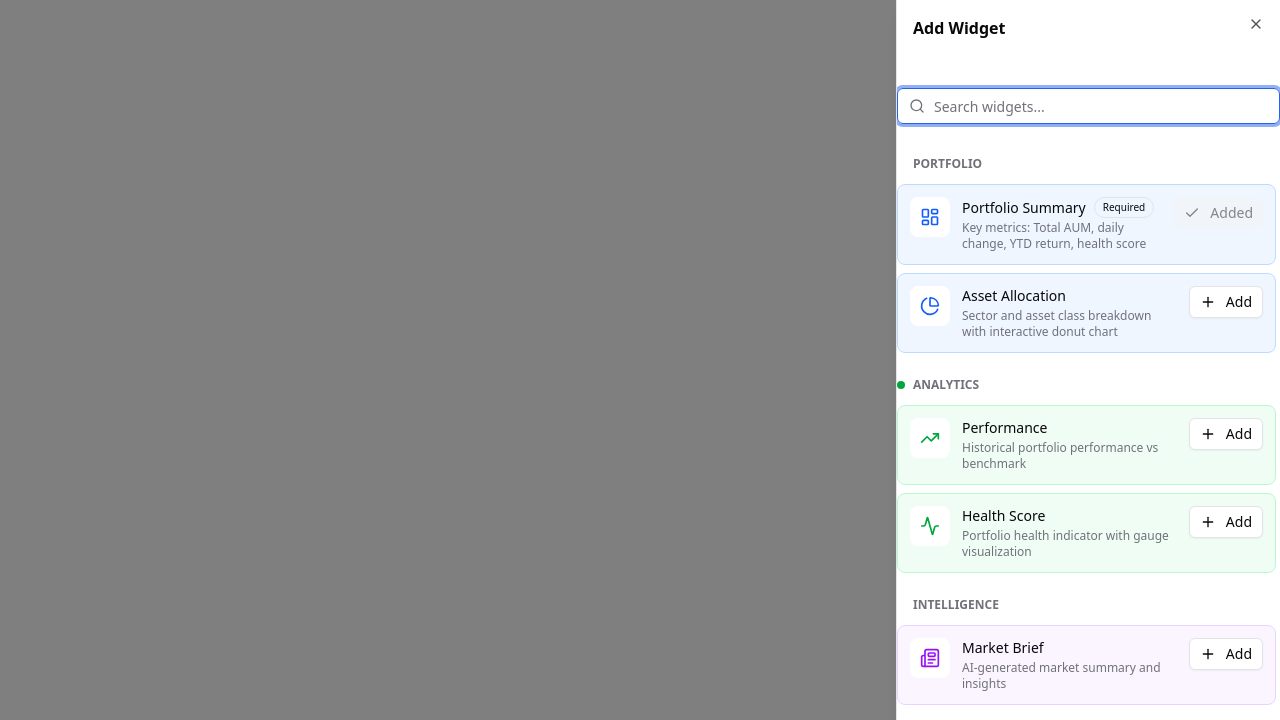
Test: WidgetPicker › Search Functionality › should filter widgets by name when searching
In the field with placeholder "Search widgets...": [1088, 106] box [897,88,1279,124], type "Performance"
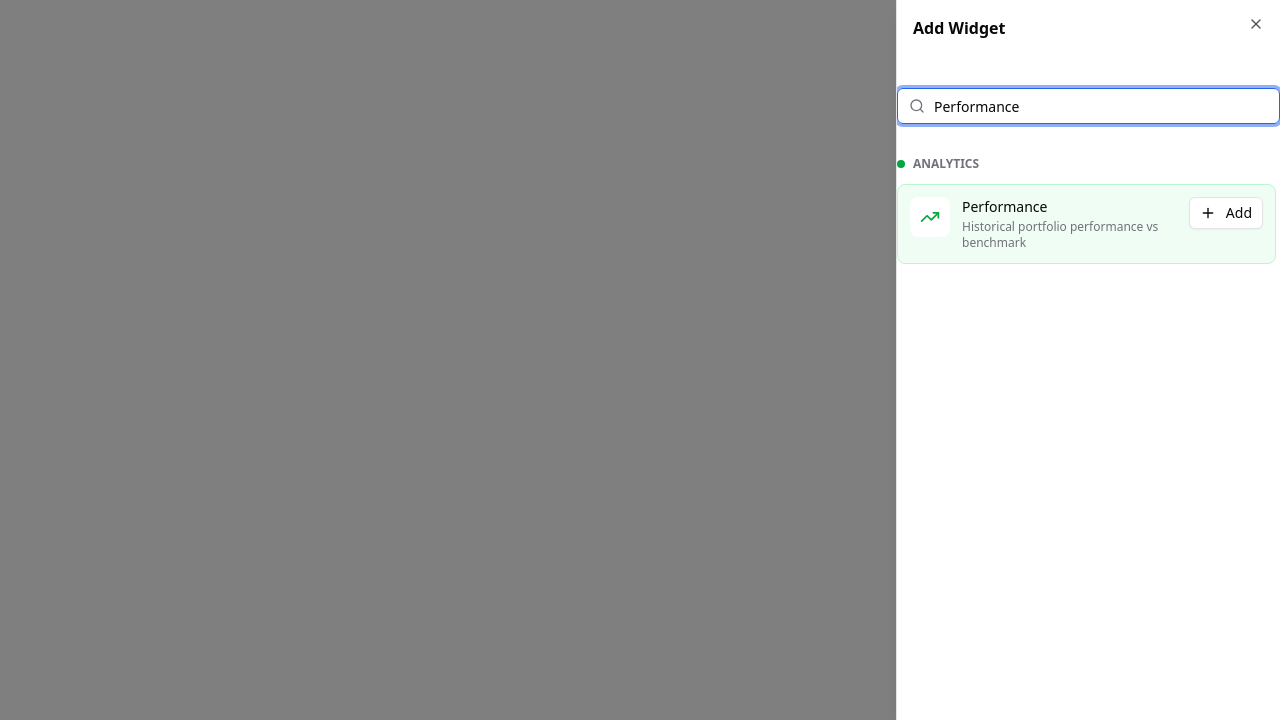
Expected: the text "Performance" is shown, [962,197,1047,217]
Expected: the text "Asset Allocation" is gone
Expected: the text "Portfolio Summary" is gone
